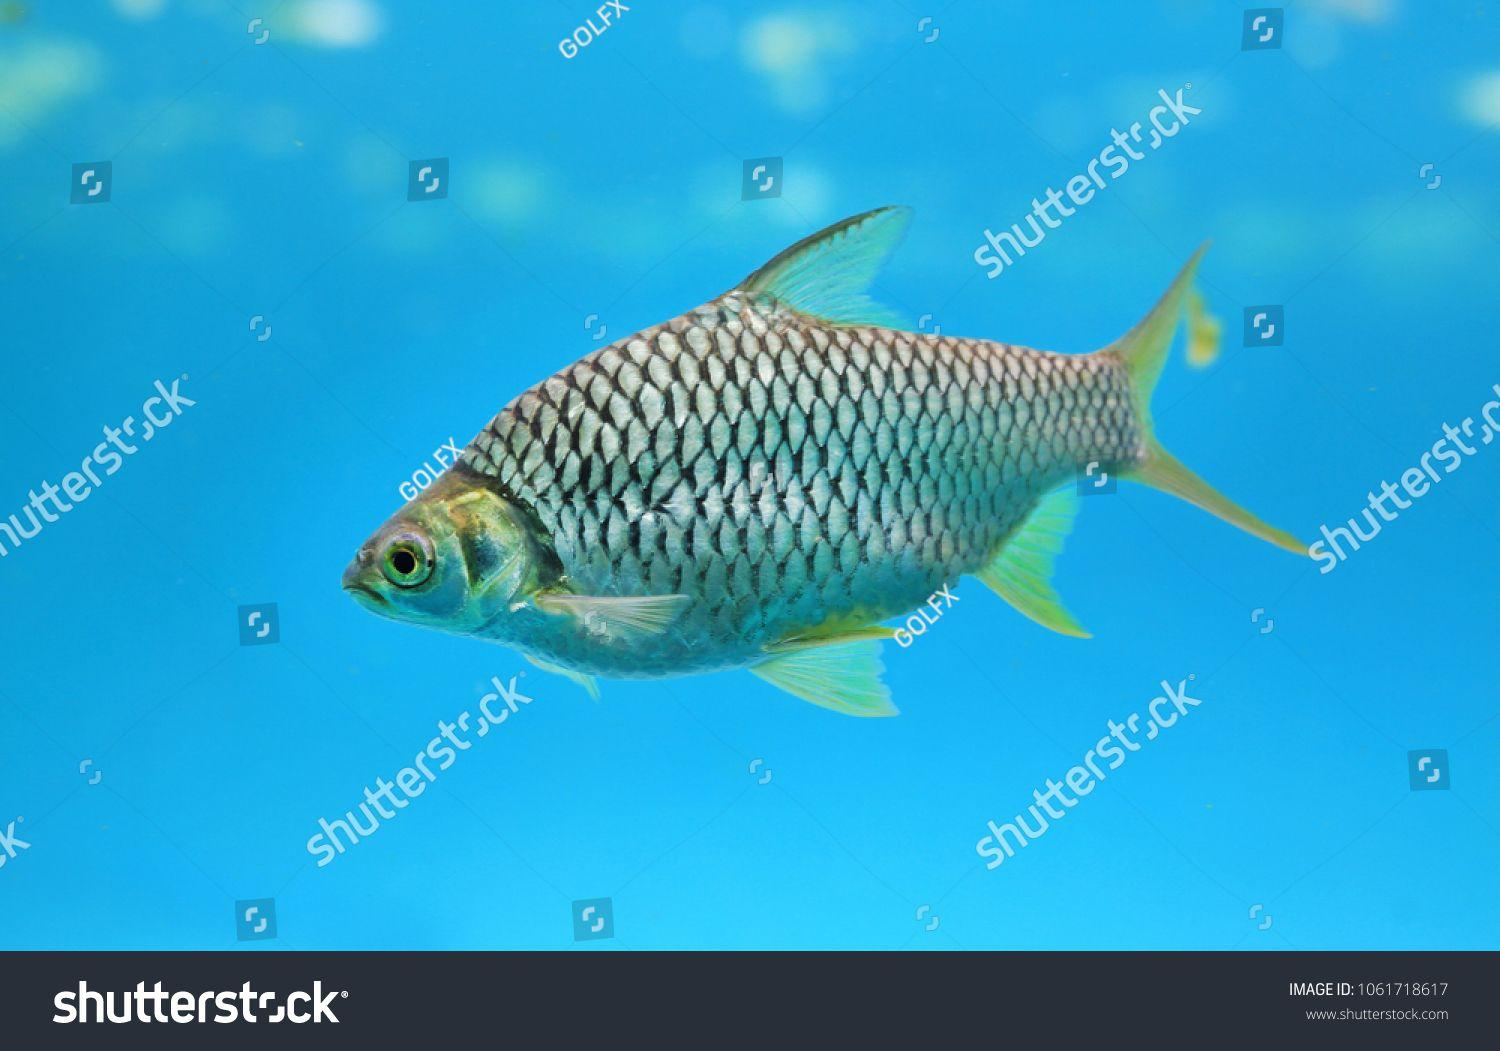Silver Barb: (353, 203, 1307, 687)
